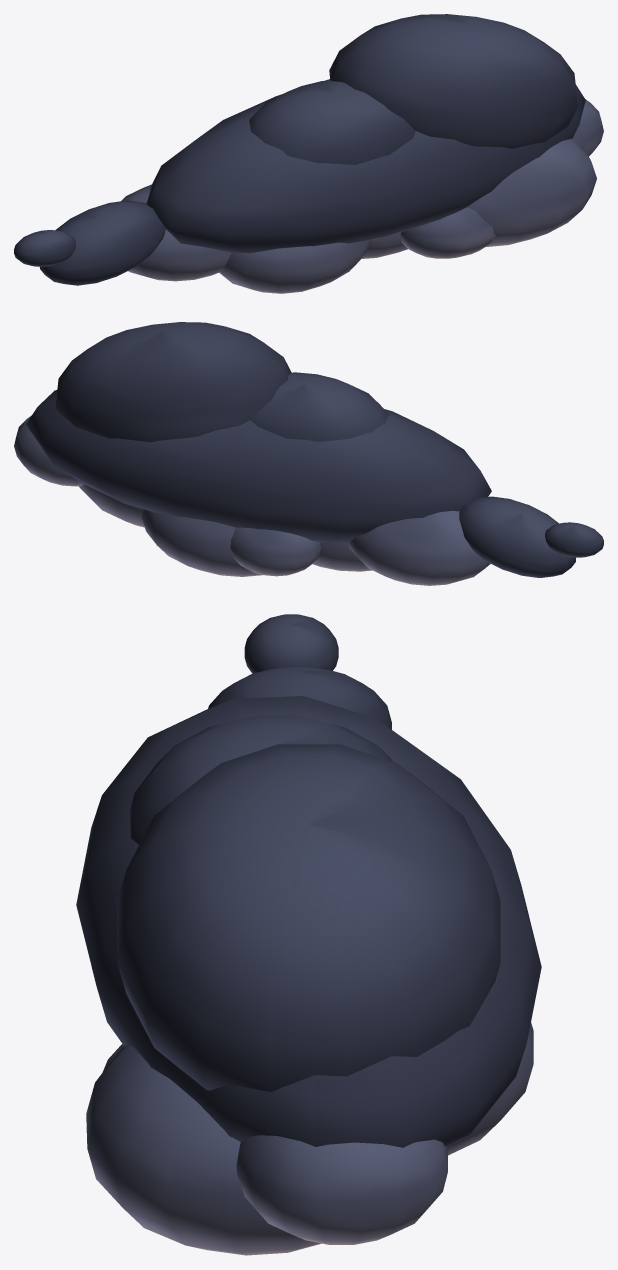
Rendered from zack_cloud_b.glb.
3 renders of one model, top to bottom at view 1: azimuth 30°, elevation 25°; view 2: azimuth 150°, elevation 25°; view 3: azimuth 270°, elevation 25°, orthographic. The views are drawn at different scales.
Parts seen in each view (by area): view 1: mass; view 2: mass; view 3: mass.
Part boxes in pixels (x1=…): mass: x1=14, y1=14, x2=603, y2=293; mass: x1=14, y1=322, x2=603, y2=585; mass: x1=76, y1=614, x2=541, y2=1255.
Size of the model in its own units: 6.03 by 2.09 by 2.14.
1 material, 1 textured.
